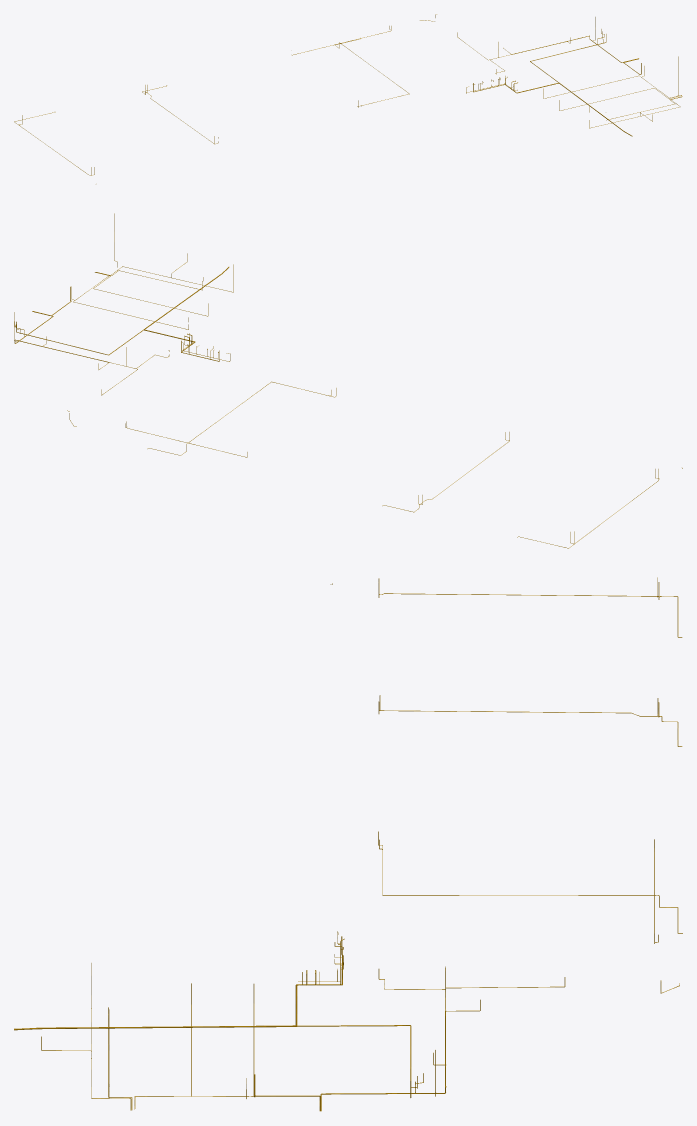
File: detail-sanitary-0-apron.glb
3 renders of one model, top to bottom at view 1: azimuth 30°, elevation 25°; view 2: azimuth 150°, elevation 25°; view 3: azimuth 270°, elevation 25°, orthographic. The views are drawn at different scales.
Size of the model in its own units: 135 by 11.2 by 73.73.
